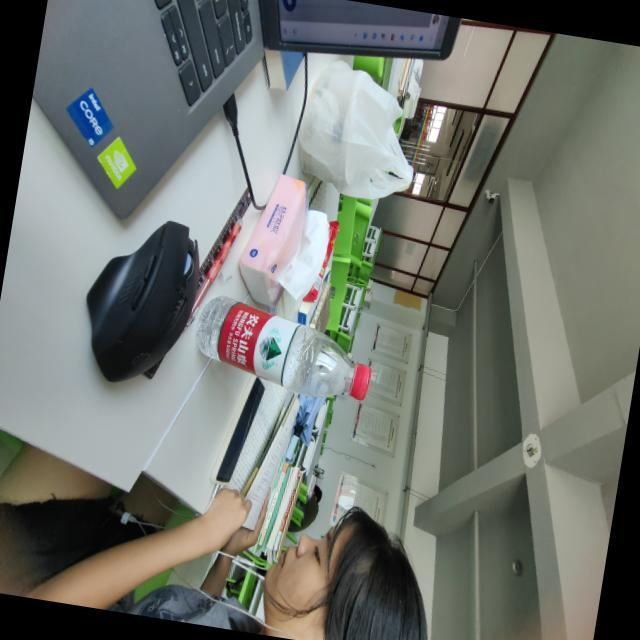good: (188, 294, 378, 407)
